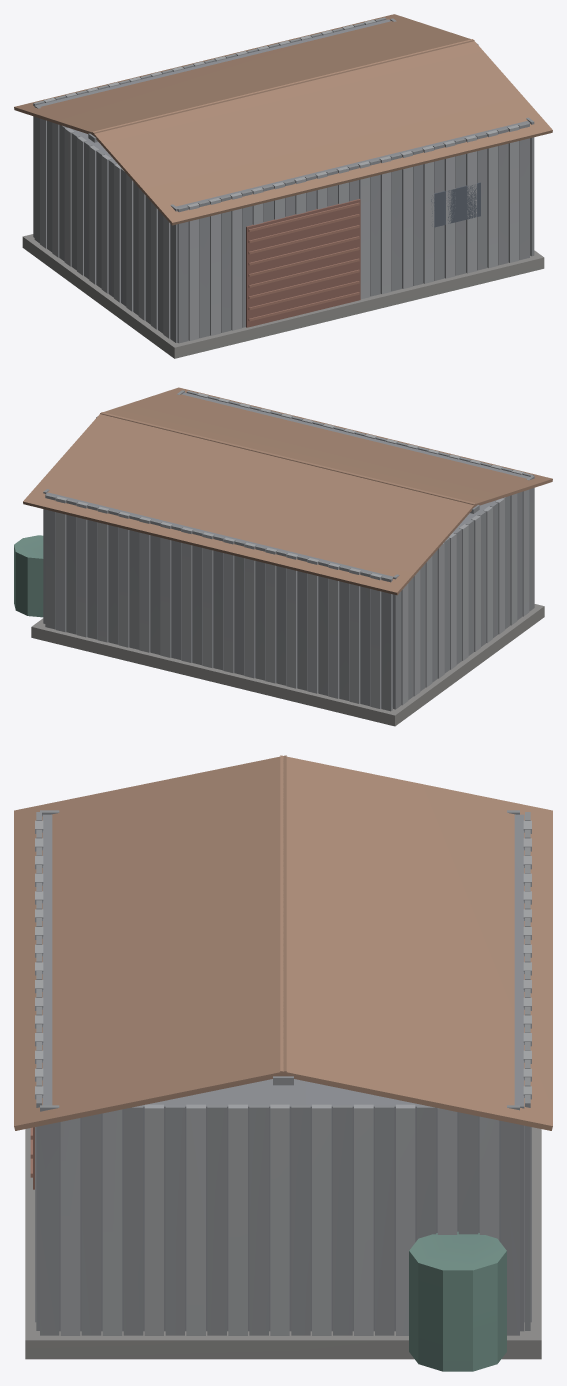
File: sv_shed.glb
The picture shows the model from 3 angles, top to bottom: view 1: azimuth 30°, elevation 25°; view 2: azimuth 150°, elevation 25°; view 3: azimuth 270°, elevation 25°; orthographic projection. The views are drawn at different scales.
Parts seen in each view (by area): view 1: sv_shed; view 2: sv_shed; view 3: sv_shed.
Boxes of the visible parts, x1,y1,x2,y2 form: sv_shed: (14, 14, 552, 358); sv_shed: (14, 387, 552, 726); sv_shed: (14, 755, 552, 1371).
Size of the model in its own units: 11.67 by 4.63 by 7.72.
